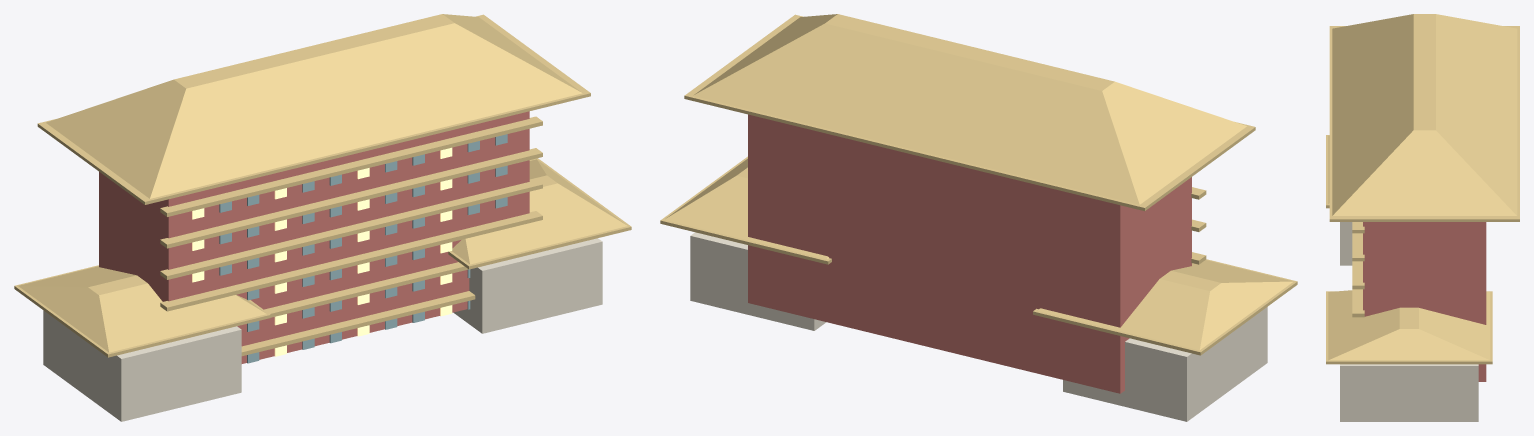
Rendered from hotel.glb.
The picture shows the model from 3 angles, left to right: view 1: azimuth 30°, elevation 25°; view 2: azimuth 150°, elevation 25°; view 3: azimuth 270°, elevation 25°; orthographic projection. The views are drawn at different scales.
Parts seen in each view (by area): view 1: hotel; view 2: hotel; view 3: hotel.
Boxes of the visible parts, x1,y1,x2,y2 form: hotel: (14, 14, 631, 421); hotel: (660, 14, 1297, 421); hotel: (1326, 14, 1519, 421).
Size of the model in its own units: 34.81 by 17.6 by 12.59.
